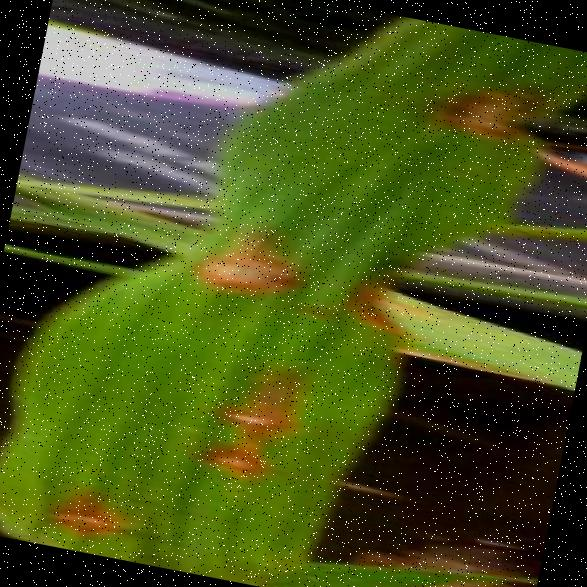Leaf_smut: (410, 49, 566, 179), (180, 192, 311, 322), (200, 330, 313, 446), (32, 462, 140, 558), (175, 426, 290, 512)
